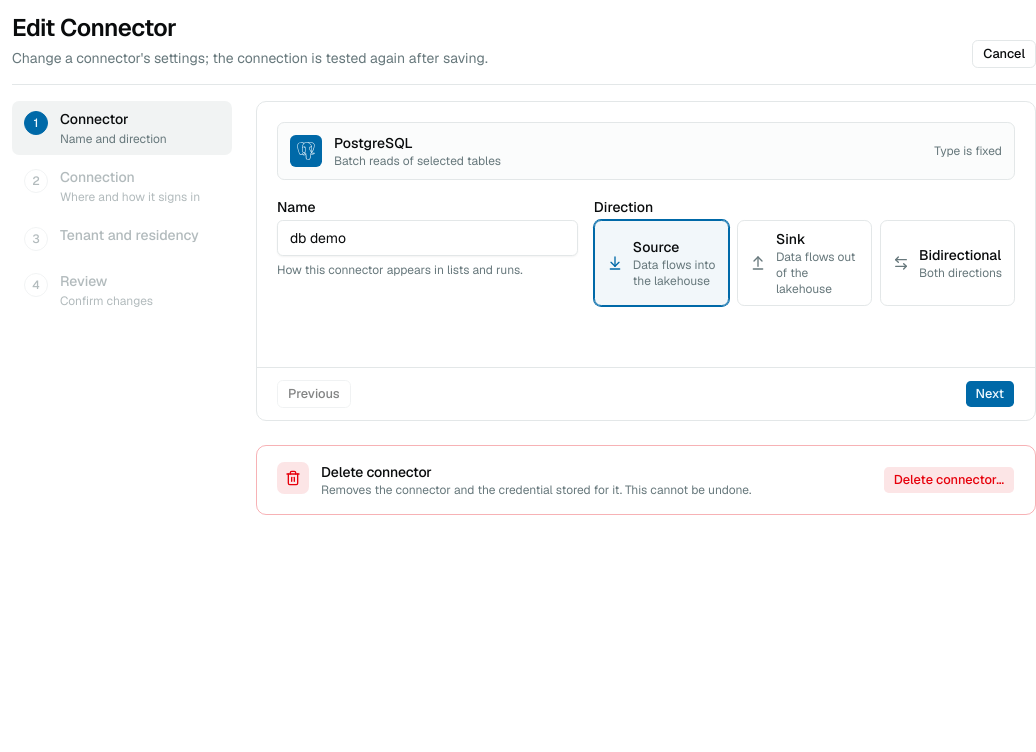
ConnectorEditPage › offers only the reference when the operator turned typing a value off
The width and height of the screenshot is (1036, 752).
Expected: the field labelled "Name" is shown, [277, 220, 578, 256]
Click the button "Next".
click(990, 394)  # box [964, 380, 1015, 408]
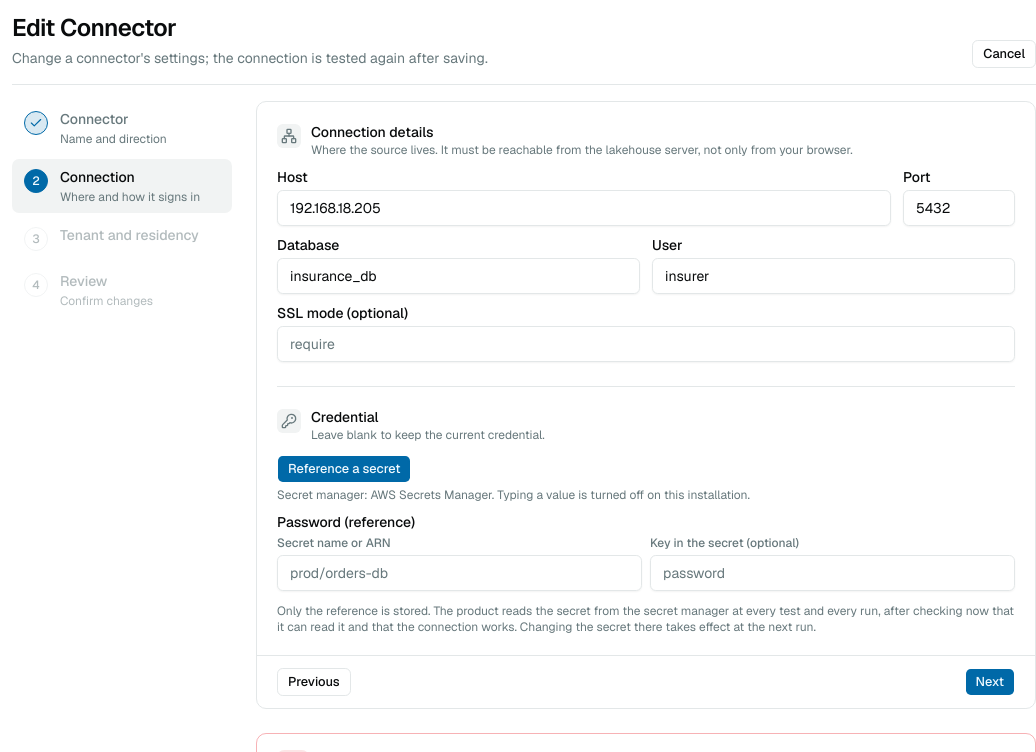
Result: the field labelled "Secret name or ARN" is shown at [277, 555, 642, 591]
Result: the text "Typing a value is turned off" is shown at [494, 487, 750, 503]
